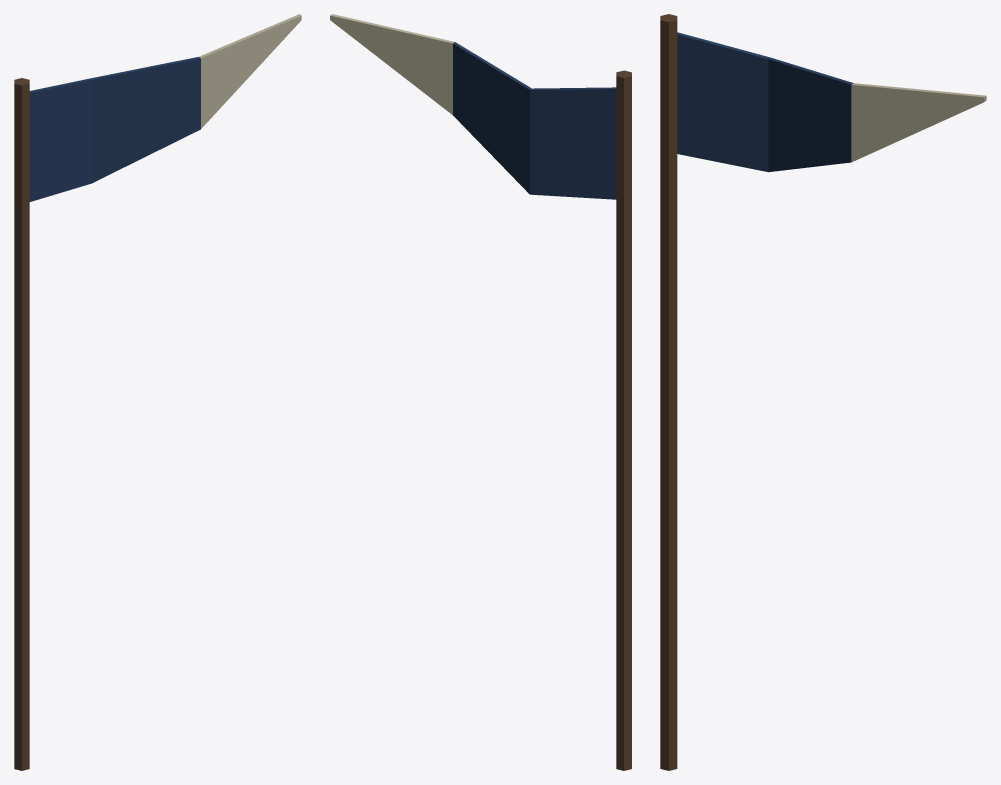
Rendered from watch_pennant.glb.
3 views of the same model, side by side, from view 1: azimuth 30°, elevation 25°; view 2: azimuth 150°, elevation 25°; view 3: azimuth 330°, elevation 25° (orthographic). The views are drawn at different scales.
Visible parts, largest first — view 1: Watch pennant; view 2: Watch pennant; view 3: Watch pennant.
Part boxes in pixels (x1,y1,x2,y2): Watch pennant: (14,14,301,770); Watch pennant: (330,14,631,770); Watch pennant: (660,14,986,770).
Size of the model in its own units: 0.945 by 2.12 by 0.105.
